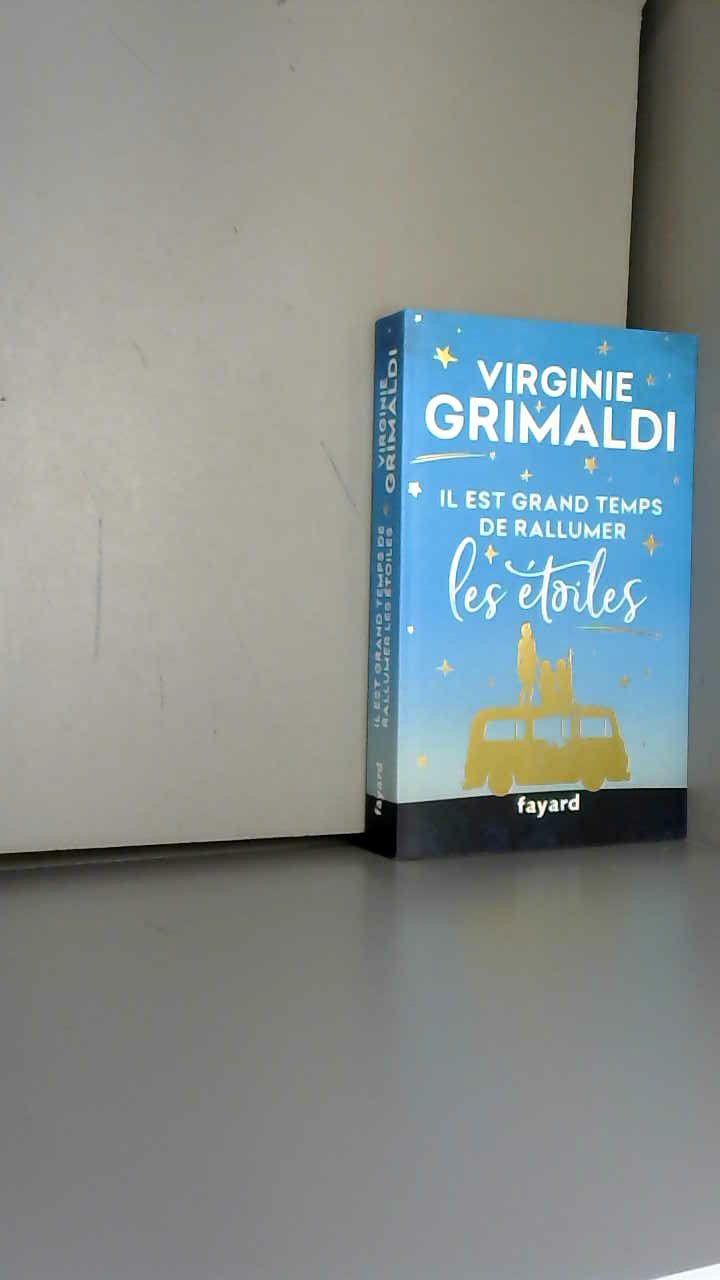book: (340, 280, 720, 883)
